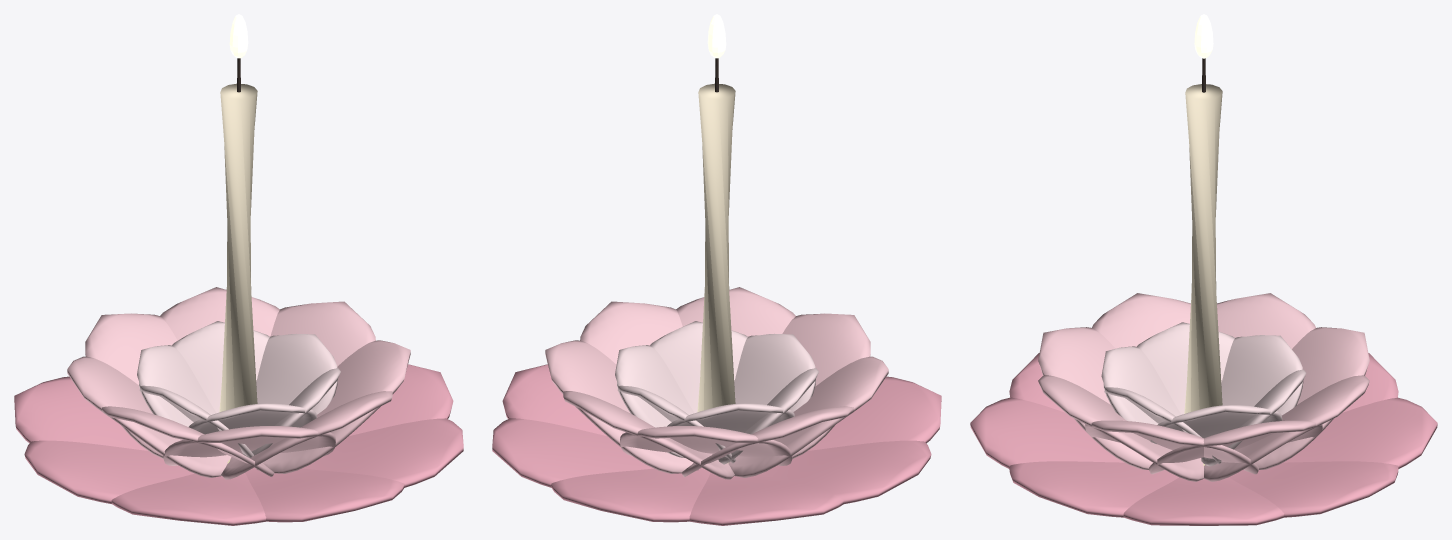
File: lotus_candle (1).fbx
3 views of the same model, side by side, from view 1: azimuth 30°, elevation 25°; view 2: azimuth 150°, elevation 25°; view 3: azimuth 270°, elevation 25° (orthographic).
Visible parts, largest first — view 1: FlowerBase, Candle, Flame; view 2: FlowerBase, Candle, Flame; view 3: FlowerBase, Candle, Flame.
Boxes of the visible parts, x1,y1,x2,y2 form: FlowerBase: (14,287,463,525); Candle: (219,83,257,412); Flame: (229,14,248,58); FlowerBase: (492,287,941,525); Candle: (697,83,735,412); Flame: (707,14,726,58); FlowerBase: (970,293,1437,525); Candle: (1184,84,1222,413); Flame: (1194,14,1213,58).
Size of the model in its own units: 430 by 460 by 430.
